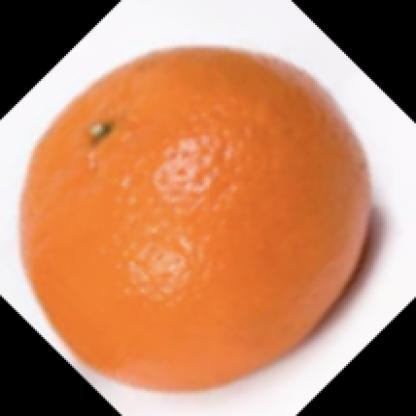fresh: (21, 43, 374, 398)
